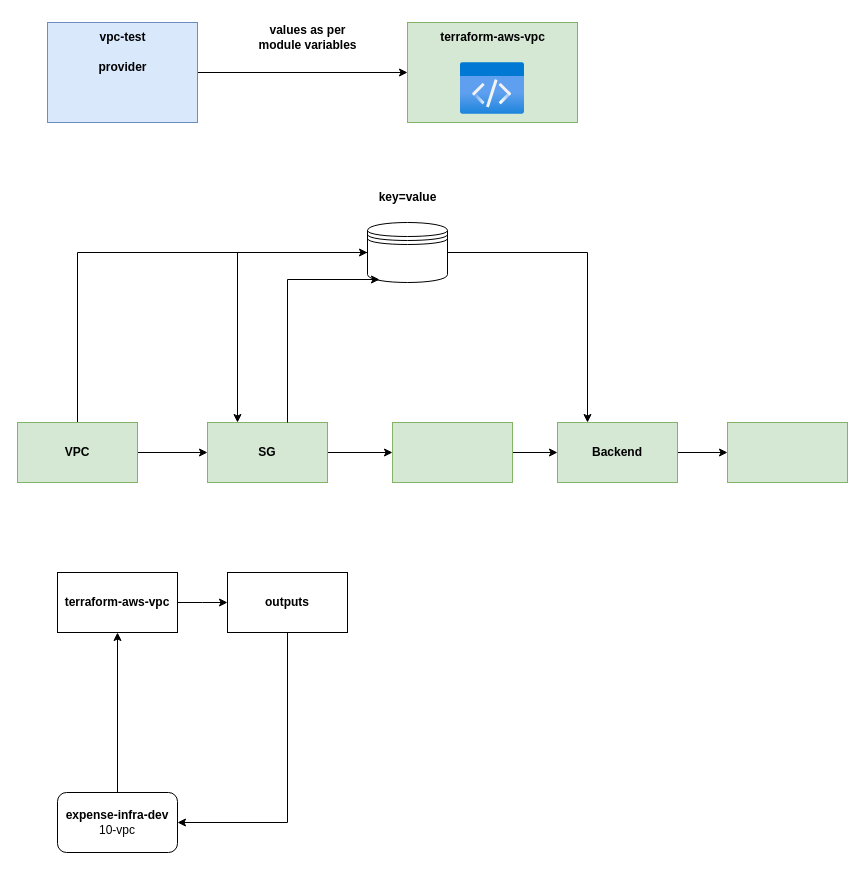
Some shapes in this 865 by 870 pixel diagram are drawn without their labels. Each missing label, with the box of its shape:
Frontend: (726, 422, 848, 482)
MySQL: (392, 422, 512, 482)
SSM: (366, 222, 448, 282)
